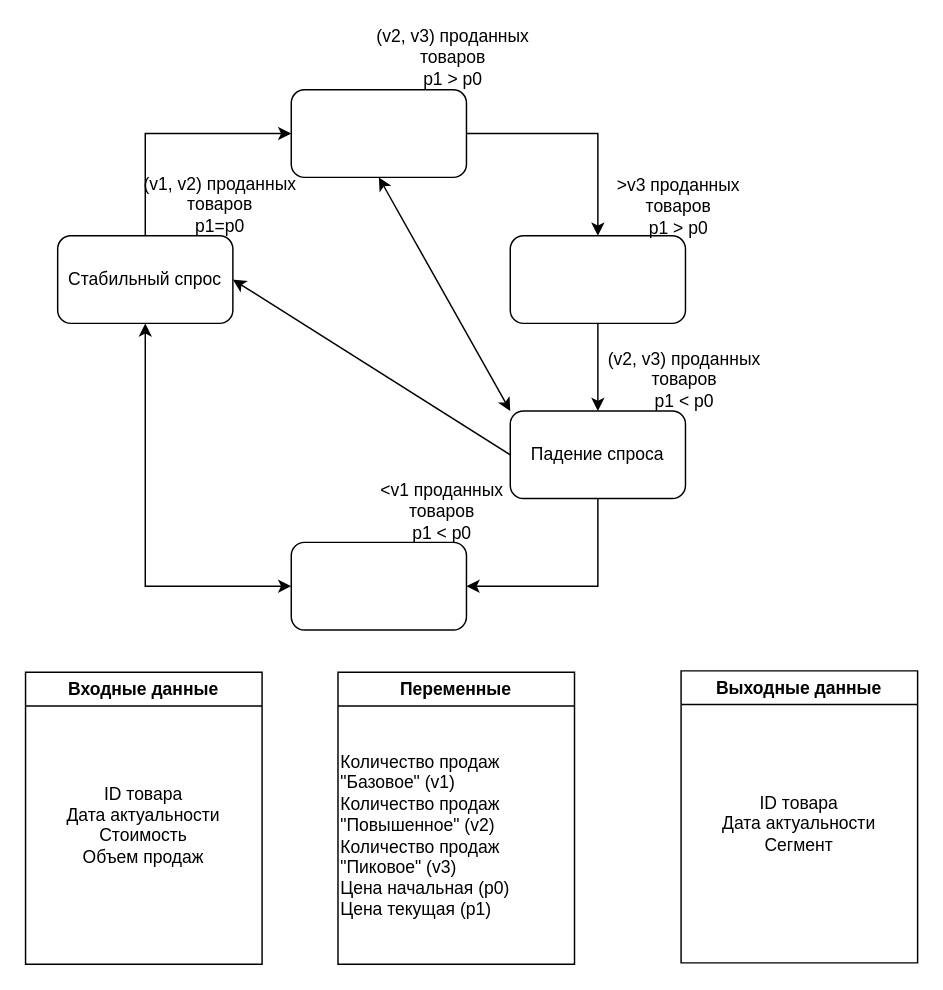
This 943x990 diagram has some shape labels left out. The shapes that lost their labels are listed below. From the top down, each one's centre as x and y in pixels, then its label:
point (378, 132): Рост сезонного спроса
point (597, 278): Сезонный пик
point (378, 585): Сезонный минимум
